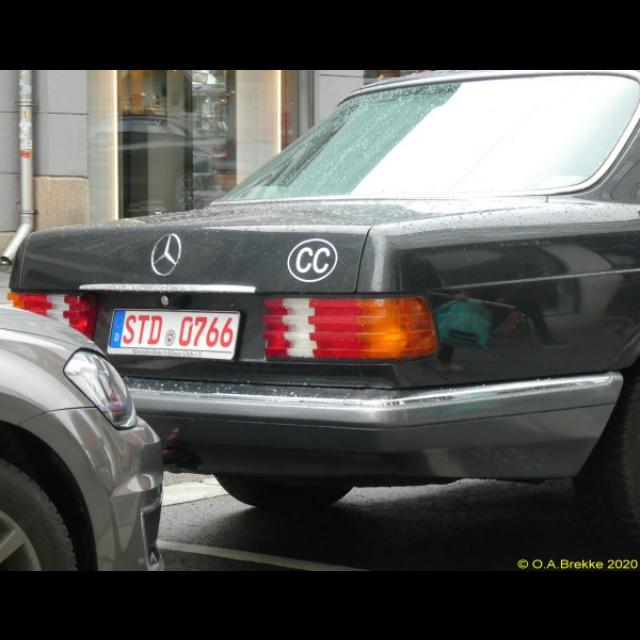d_license_plate: (109, 308, 237, 349)
